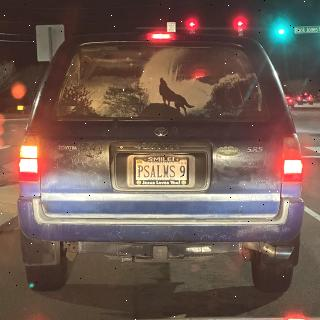license: (134, 158, 190, 186)
